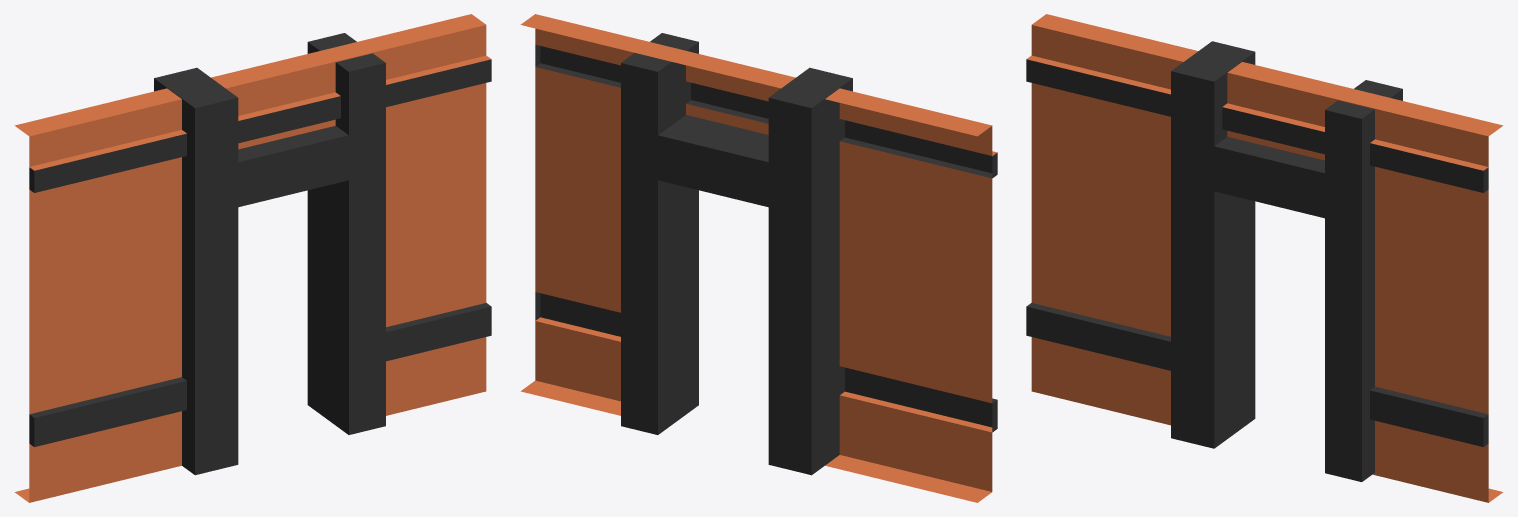
File: scianaDrzwi.fbx
3 renders of one model, left to right at view 1: azimuth 30°, elevation 25°; view 2: azimuth 150°, elevation 25°; view 3: azimuth 330°, elevation 25°, orthographic.
Visible parts, largest first — view 1: Cube.206, Cube.207; view 2: Cube.206, Cube.207; view 3: Cube.206, Cube.207.
Boxes of the visible parts, bbox=[...] form: Cube.206: bbox=[14, 14, 491, 502]; Cube.207: bbox=[154, 33, 385, 475]; Cube.206: bbox=[520, 14, 997, 502]; Cube.207: bbox=[621, 33, 852, 475]; Cube.206: bbox=[1026, 14, 1503, 502]; Cube.207: bbox=[1171, 41, 1402, 481].
Bounding box in the file's own units: 1285 × 986 × 200.
